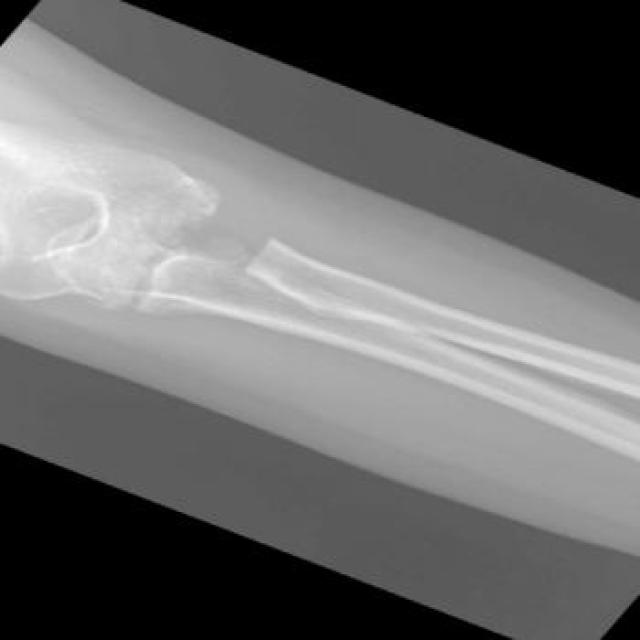Fracture: (172, 192, 297, 280)
